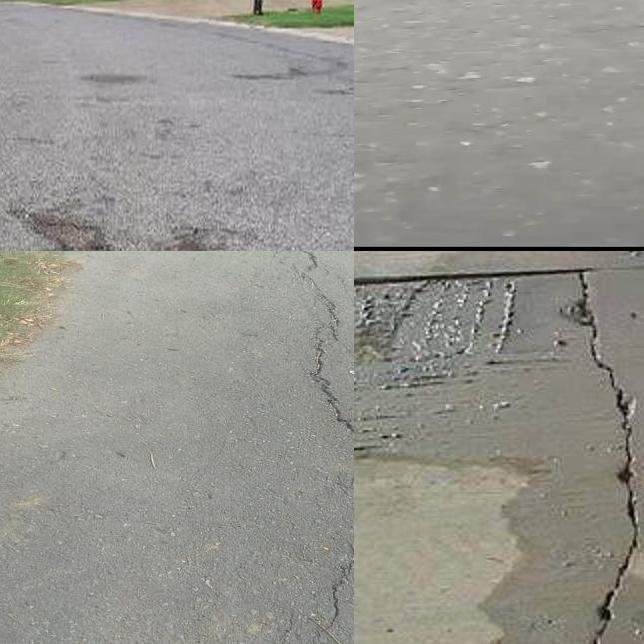Melintang: (354, 251, 644, 300)
Memanjang: (562, 256, 644, 644), (274, 251, 354, 477)
